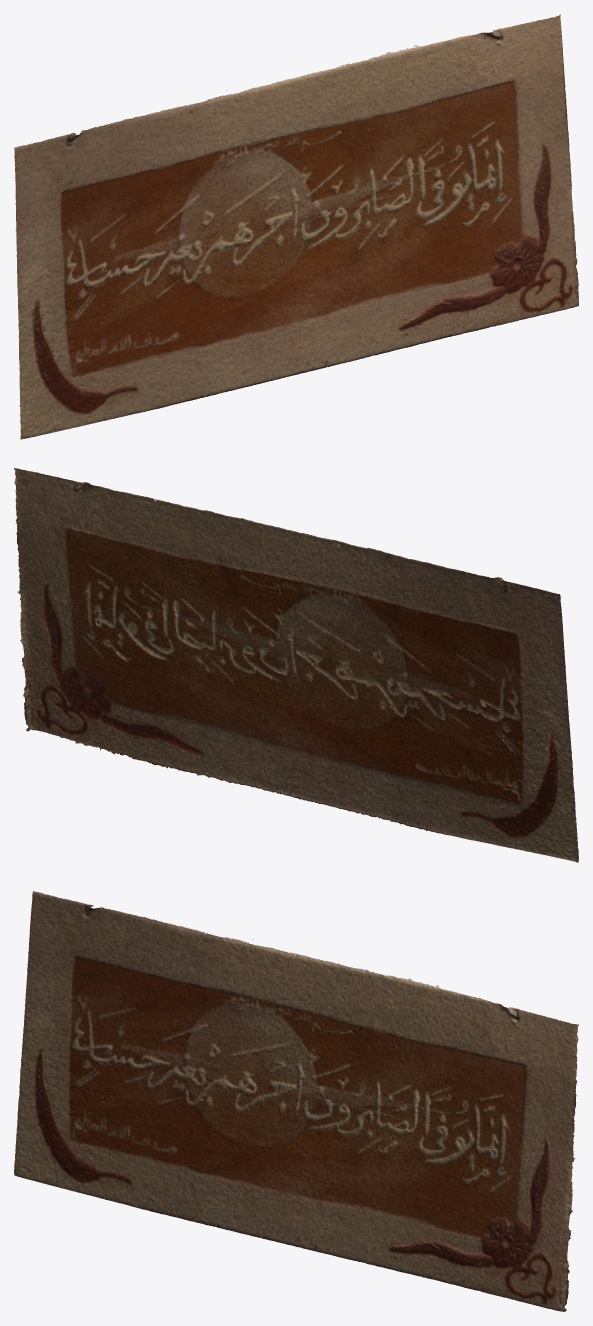
Rendered from preview.glb.
3 views of the same model, one above another, from view 1: azimuth 30°, elevation 25°; view 2: azimuth 150°, elevation 25°; view 3: azimuth 330°, elevation 25° (orthographic).
Visible parts, largest first — view 1: Model_material0_0; view 2: Model_material0_0; view 3: Model_material0_0.
Boxes of the visible parts, x1,y1,x2,y2 form: Model_material0_0: [14, 14, 578, 439]; Model_material0_0: [14, 468, 578, 862]; Model_material0_0: [14, 891, 578, 1311].
Bounding box in the file's own units: 4.83 × 2.35 × 0.3107.
1 material, 1 textured.
